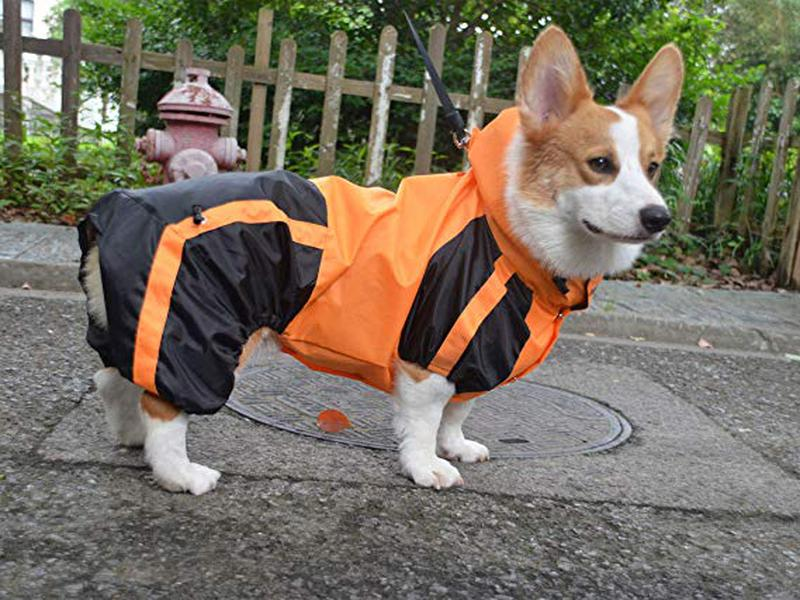corgi: (519, 25, 687, 247)
